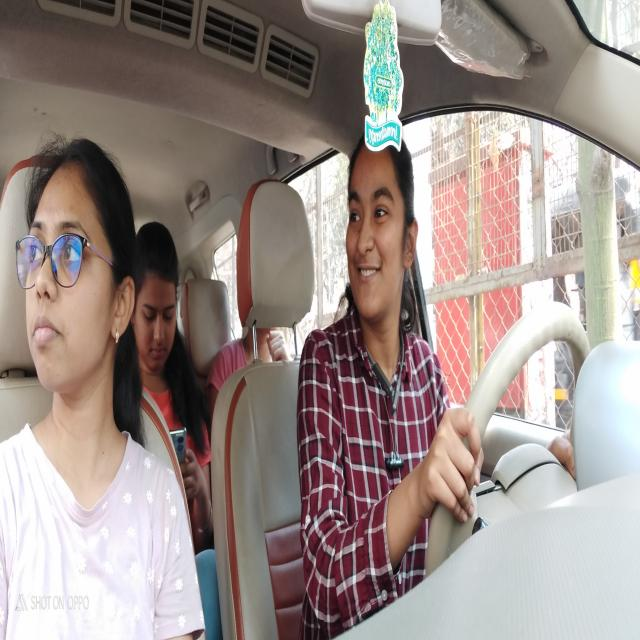LeftRight: (19, 166, 132, 394), (341, 144, 416, 326), (140, 246, 178, 367)
talking: (355, 258, 384, 284)
